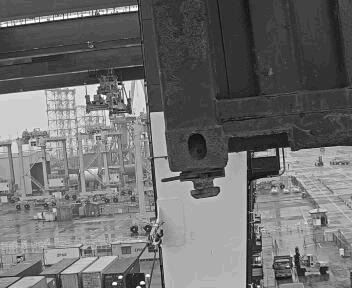twist_lock_1: (151, 167, 209, 206)
